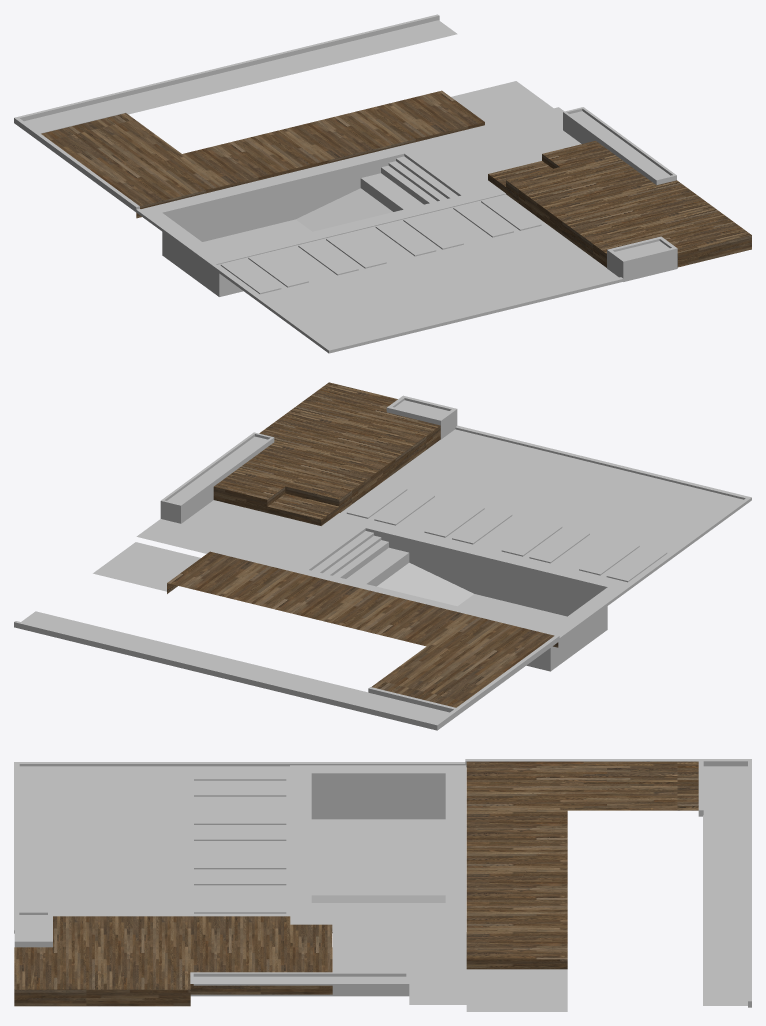
Rendered from basic.FBX.
3 views of the same model, one above another, from view 1: azimuth 30°, elevation 25°; view 2: azimuth 150°, elevation 25°; view 3: azimuth 270°, elevation 25° (orthographic). The views are drawn at different scales.
Parts seen in each view (by area): view 1: Object305, Group106, Plane009, Plane017, Object303, Box303, Box359, Plane413, Box296, Box295; view 2: Object305, Group106, Plane009, Plane017, Object303, Box359, Box303, Plane413, Box295, Box296; view 3: Object305, Group106, Plane009, Plane017, Object303, Box303, Plane413, Box359, Box295, Box296.
Boxes of the visible parts, <box> form: Object305: <box>217,81,669,347</box>; Group106: <box>24,20,458,296</box>; Plane009: <box>41,90,484,218</box>; Plane017: <box>488,141,751,267</box>; Object303: <box>141,138,505,264</box>; Box303: <box>220,196,541,294</box>; Box359: <box>14,14,623,353</box>; Plane413: <box>431,107,581,179</box>; Box296: <box>607,236,677,281</box>; Box295: <box>563,107,676,185</box>; Object305: <box>93,400,743,591</box>; Group106: <box>21,531,607,722</box>; Plane009: <box>167,551,558,707</box>; Plane017: <box>213,382,440,525</box>; Object303: <box>268,513,628,635</box>; Box359: <box>14,425,751,730</box>; Box303: <box>346,484,667,582</box>; Plane413: <box>136,500,320,565</box>; Box295: <box>160,432,274,523</box>; Box296: <box>386,395,457,439</box>; Object305: <box>19,766,567,1011</box>; Group106: <box>311,766,747,1005</box>; Plane009: <box>466,761,698,969</box>; Plane017: <box>14,916,332,1006</box>; Object303: <box>290,765,466,933</box>; Box303: <box>194,767,286,916</box>; Plane413: <box>333,932,466,1004</box>; Box359: <box>14,759,751,1007</box>; Box295: <box>190,972,409,996</box>; Box296: <box>14,910,52,947</box>.
Size of the model in its own units: 206 by 28.21 by 265.
